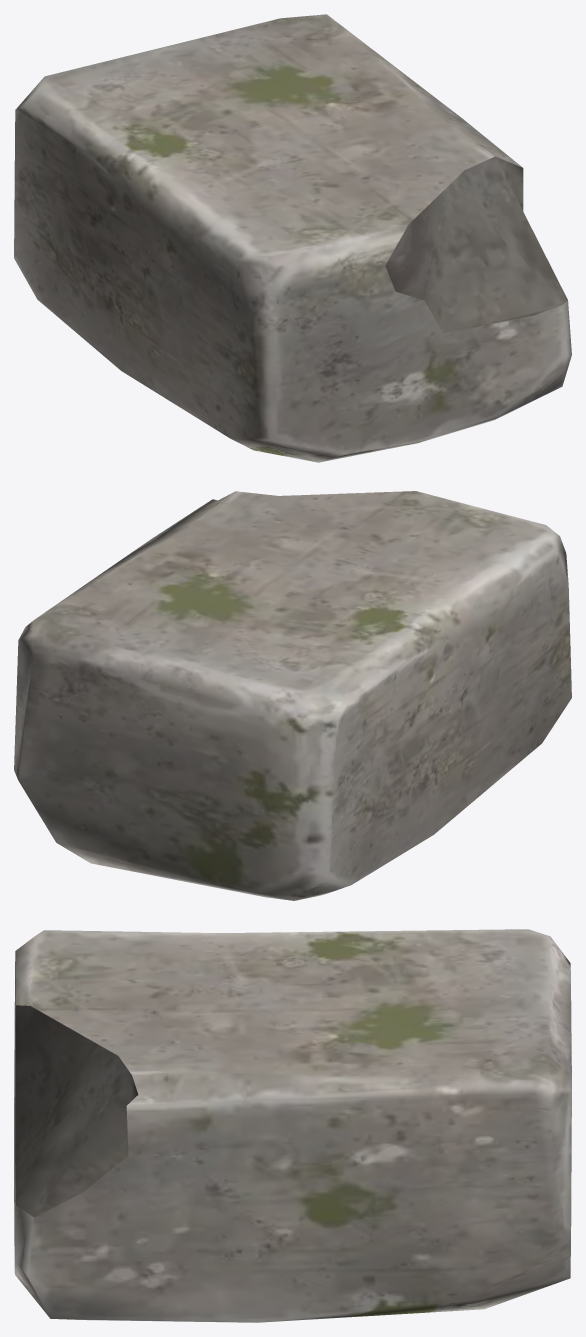
3 views of the same model, one above another, from view 1: azimuth 30°, elevation 25°; view 2: azimuth 150°, elevation 25°; view 3: azimuth 270°, elevation 25° (orthographic). The views are drawn at different scales.
Parts seen in each view (by area): view 1: SM_Castle_Floor_Stone_01_Dmg_v7_LOD0; view 2: SM_Castle_Floor_Stone_01_Dmg_v7_LOD0; view 3: SM_Castle_Floor_Stone_01_Dmg_v7_LOD0.
Part boxes in pixels (x1=…): SM_Castle_Floor_Stone_01_Dmg_v7_LOD0: x1=14, y1=14, x2=571, y2=462; SM_Castle_Floor_Stone_01_Dmg_v7_LOD0: x1=14, y1=491, x2=571, y2=900; SM_Castle_Floor_Stone_01_Dmg_v7_LOD0: x1=14, y1=929, x2=571, y2=1322.
Bounding box in the file's own units: 0.5308 × 0.3544 × 0.7371.
Materials: 2 (2 with a texture image).
